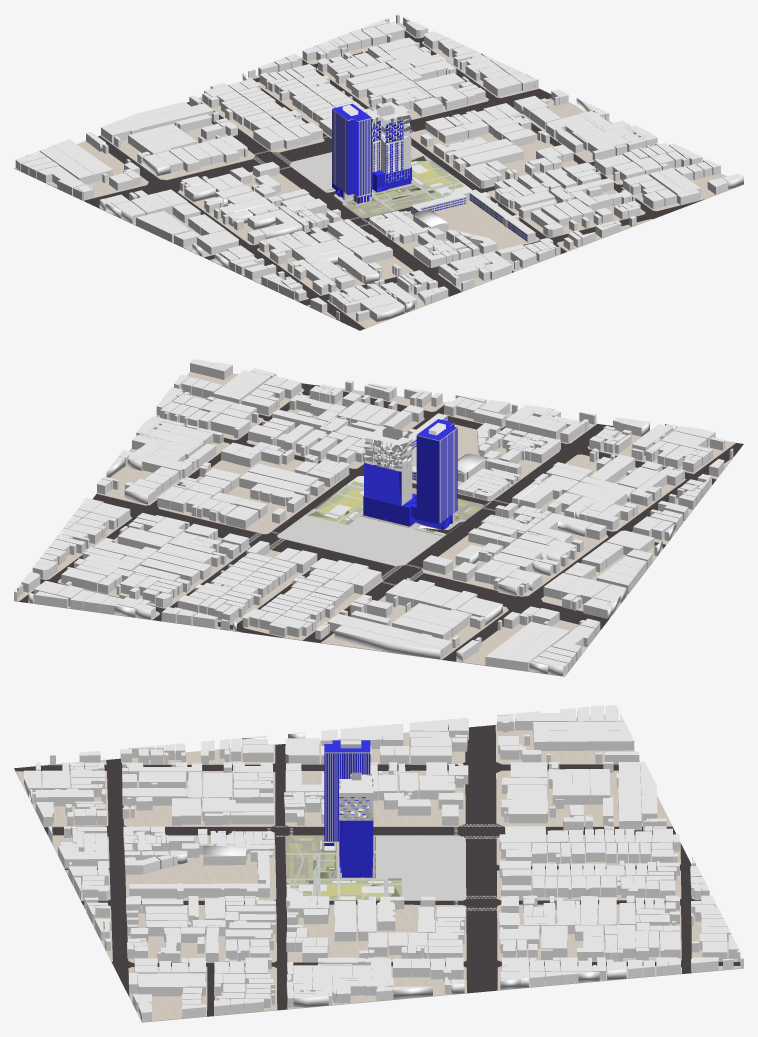
File: sketchup_sample1.glb
The picture shows the model from 3 angles, top to bottom: view 1: azimuth 30°, elevation 25°; view 2: azimuth 150°, elevation 25°; view 3: azimuth 270°, elevation 25°; orthographic projection. The views are drawn at different scales.
Parts seen in each view (by area): view 1: G-__556113, G-__555663, G-__556122, 6291847481`92ㅏ#1, G-__555735, G-__555798, G-__555861, G-__555852, G-__555789, G-__555672, G-__555879, G-__555825 (+3 smaller); view 2: G-__556113, G-__555663, G-__556122, G-__555789, 6291847481`92ㅏ#1, G-__555798, G-__555672, G-__555654, G-__555735, G-__555861, G-__555852, G-__555825 (+5 smaller); view 3: G-__556113, G-__555663, G-__556122, 6291847481`92ㅏ#1, G-__555789, G-__555735, G-__555798, G-__555672, G-__555852, G-__555708, G-__555879, G-__555861 (+10 smaller).
Boxes of the visible parts, x1,y1,x2,y2 form: G-__556113: (15,14,743,321); G-__555663: (84,31,704,330); G-__556122: (332,103,411,203); 6291847481`92ㅏ#1: (344,155,471,218); G-__555735: (368,200,539,267); G-__555798: (410,129,577,188); G-__555861: (14,141,148,200); G-__555852: (99,123,255,180); G-__555789: (289,152,333,190); G-__555672: (178,171,343,245); G-__555879: (257,231,413,295); G-__555825: (513,98,622,162); G-__556113: (14,359,733,675); G-__555663: (19,383,743,661); G-__556122: (363,419,457,529); G-__555789: (318,516,443,566); 6291847481`92ㅏ#1: (305,475,484,524); G-__555798: (158,459,349,534); G-__555672: (421,516,608,596); G-__555654: (277,515,347,547); G-__555735: (411,424,559,501); G-__555861: (455,613,600,676); G-__555852: (321,595,508,659); G-__555825: (96,442,229,505); G-__556113: (24,705,743,1021); G-__555663: (14,725,740,1016); G-__556122: (324,740,373,877); 6291847481`92ㅏ#1: (285,835,402,900); G-__555789: (376,835,465,878); G-__555735: (125,835,276,900); G-__555798: (287,904,466,962); G-__555672: (285,770,465,826); G-__555852: (496,770,672,826); G-__555708: (127,904,276,962); G-__555879: (123,771,275,826); G-__555861: (495,714,639,764).
Size of the model in its own units: 712 by 115 by 712.
15 materials, 10 textured.
